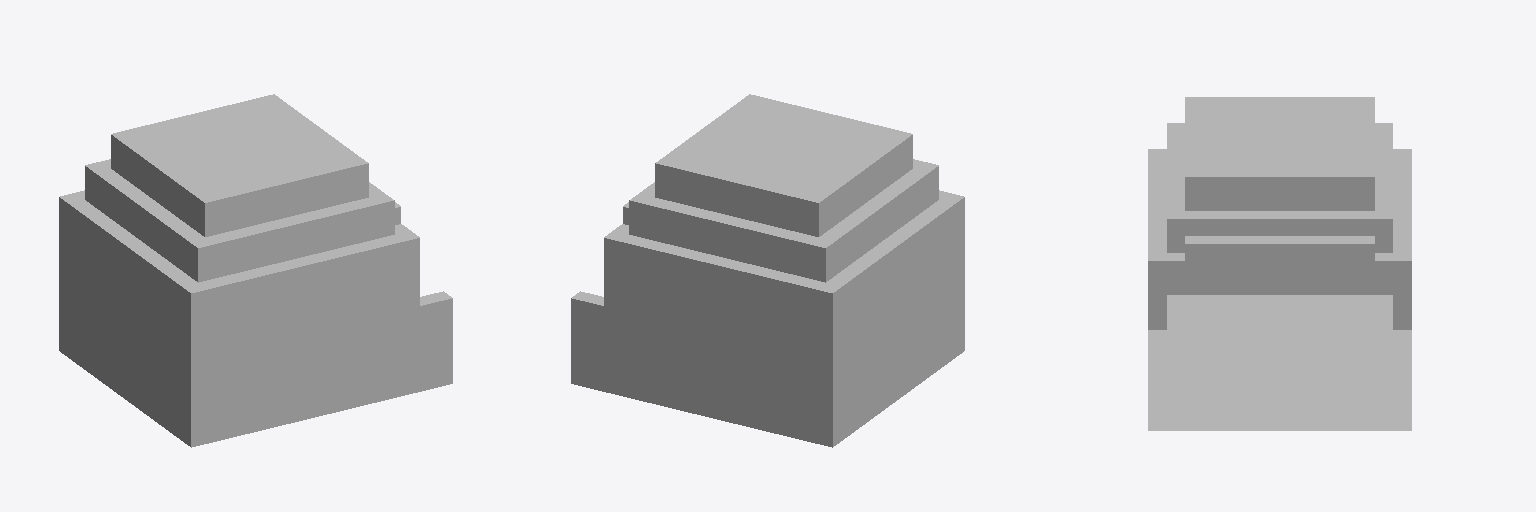
File: sluice_input.obj
The picture shows the model from 3 angles: view 1: azimuth 30°, elevation 25°; view 2: azimuth 150°, elevation 25°; view 3: azimuth 270°, elevation 25°; orthographic projection.
Visible parts, largest first — view 1: Sluice, Sediment; view 2: Sluice, Sediment; view 3: Sluice, Sediment.
Part boxes in pixels (left/top/right/bottom): Sluice: left=59, top=159, right=452, bottom=447; Sediment: left=111, top=94, right=368, bottom=236; Sluice: left=571, top=159, right=964, bottom=447; Sediment: left=655, top=94, right=912, bottom=236; Sluice: left=1148, top=123, right=1411, bottom=430; Sediment: left=1185, top=97, right=1374, bottom=396.
Size of the model in its own units: 1 by 0.8125 by 0.875.